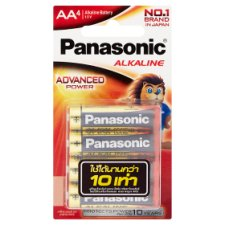Battery: (67, 105, 161, 132), (66, 132, 161, 156)
